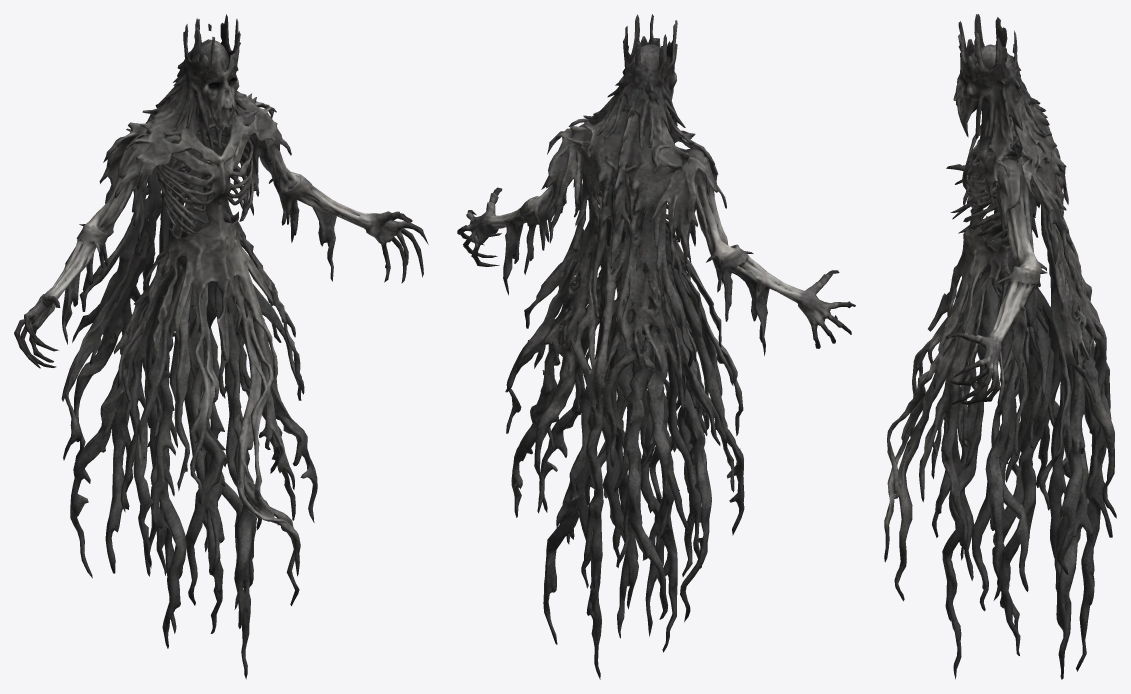
Rendered from wraith.glb.
3 views of the same model, side by side, from view 1: azimuth 30°, elevation 25°; view 2: azimuth 150°, elevation 25°; view 3: azimuth 270°, elevation 25° (orthographic). The views are drawn at different scales.
Visible parts, largest first — view 1: world; view 2: world; view 3: world.
Boxes of the visible parts, bbox=[...] form: world: bbox=[14, 14, 428, 679]; world: bbox=[457, 14, 855, 679]; world: bbox=[884, 14, 1116, 679].
Size of the model in its own units: 0.6405 by 0.9983 by 0.3248.
1 material, 1 textured.
